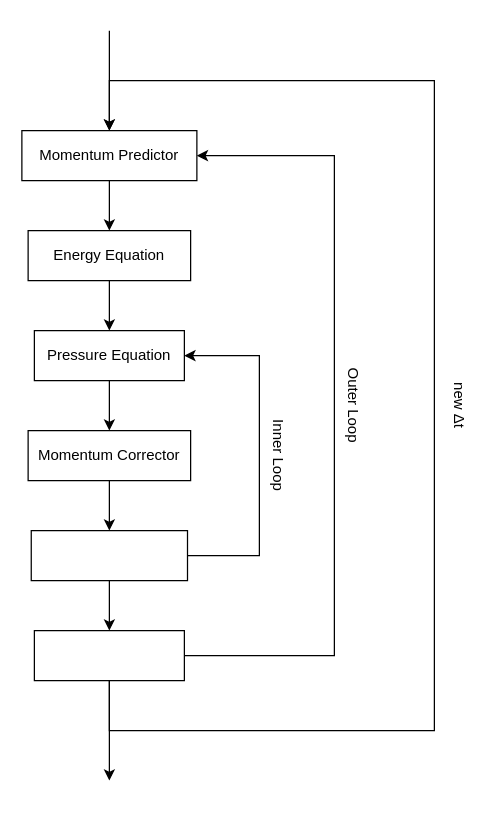
Some shapes in this 494 by 813 pixel diagram are drawn without their labels. Here are the shapes that lost their labels. From the top down, the box of each, then its label:
(30, 529, 188, 581): Density
(33, 629, 184, 681): Turbulence
